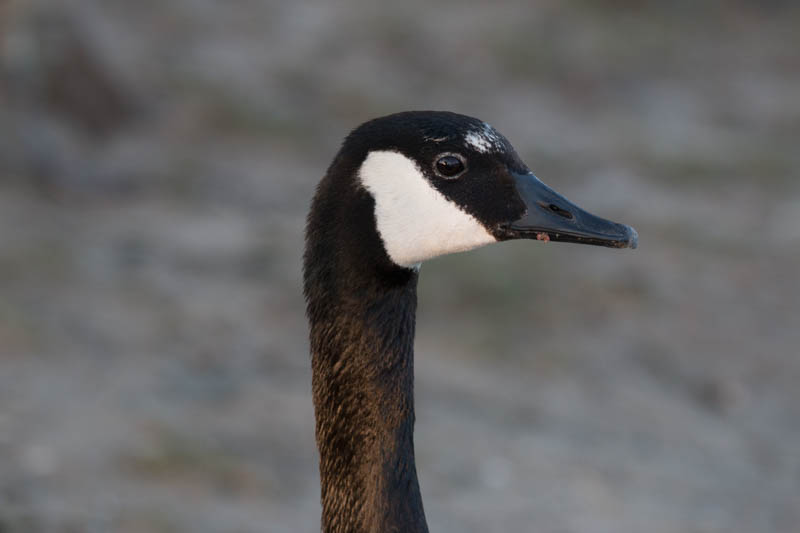goose-head: (304, 113, 642, 269)
